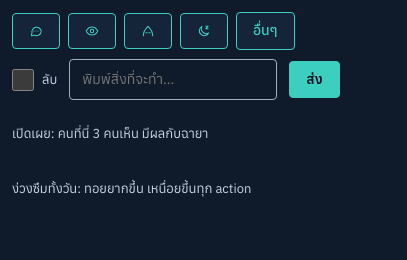
Scenario: C2 action bar on a phone (GEN-134: four icons from the mockup + อื่นๆ) › a word in the list prefills the box and closes the list
Step 1. Click the button "อื่นๆ" → (265, 31), box left=236, top=12, right=295, bottom=50
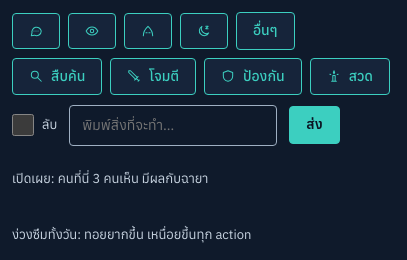
Step 2. Click the button "สืบค้น" → (57, 76), box left=12, top=58, right=102, bottom=95
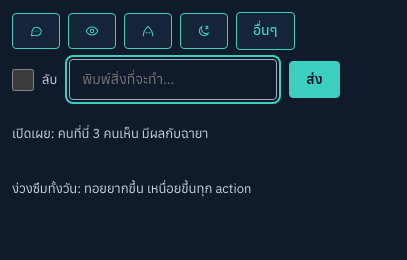
Now the element "การกระทำทั้งหมด" is gone
